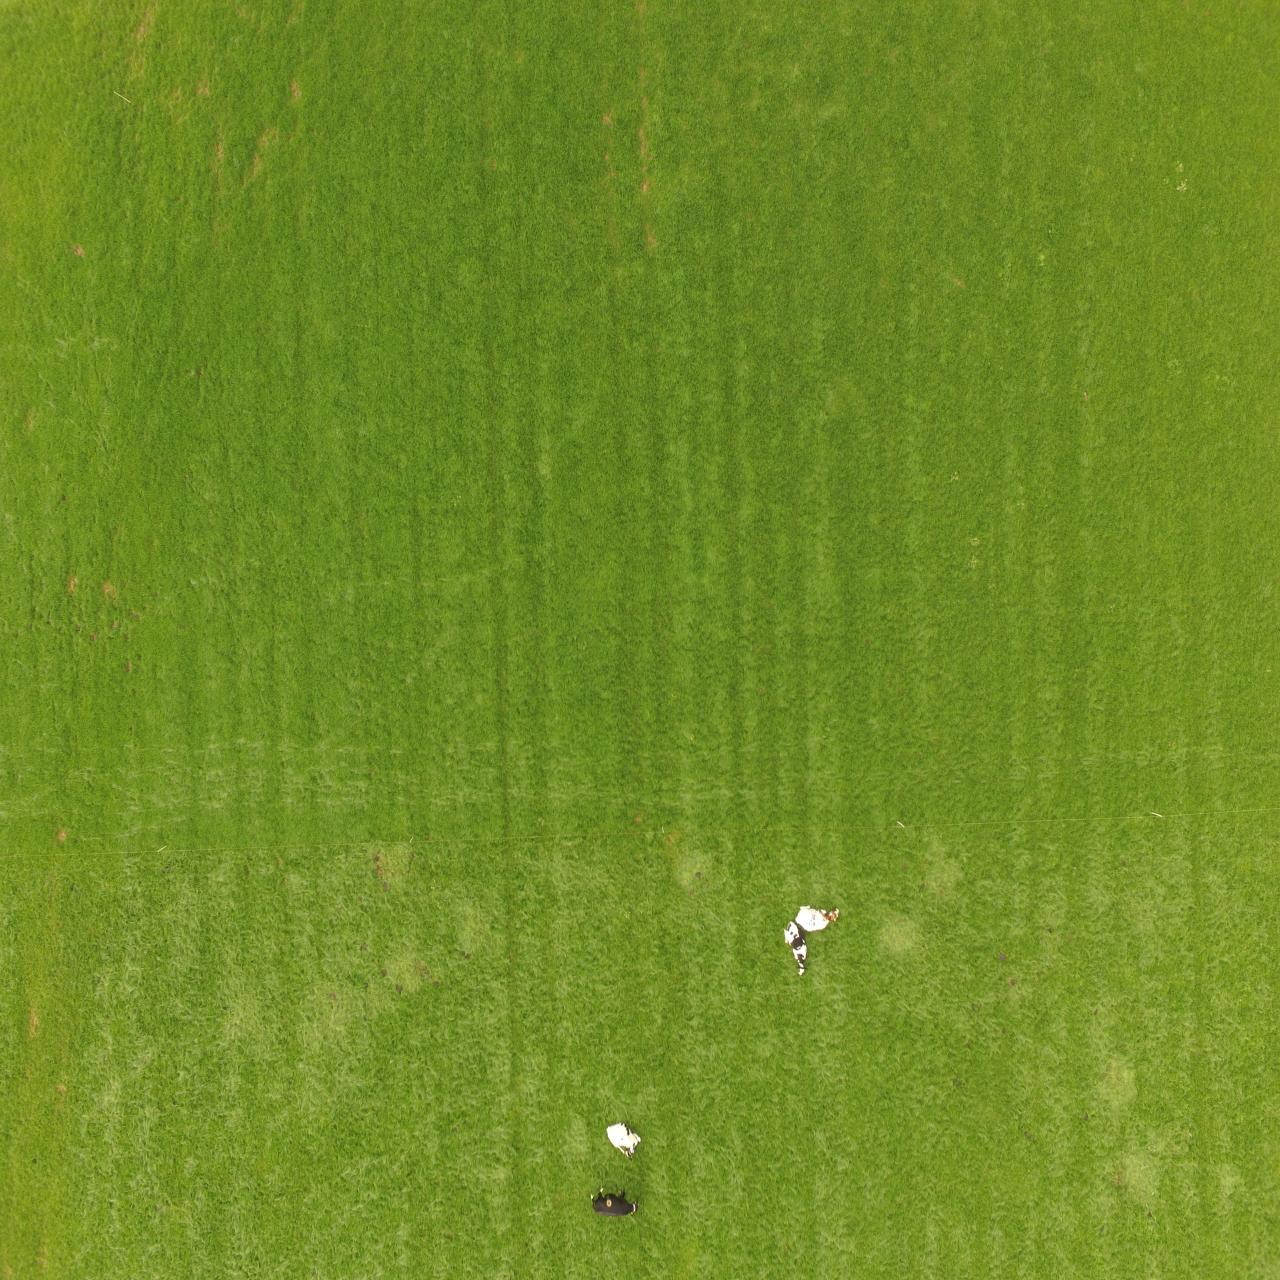cow: (779, 899, 843, 979), (586, 1183, 646, 1231), (602, 1118, 646, 1157)
